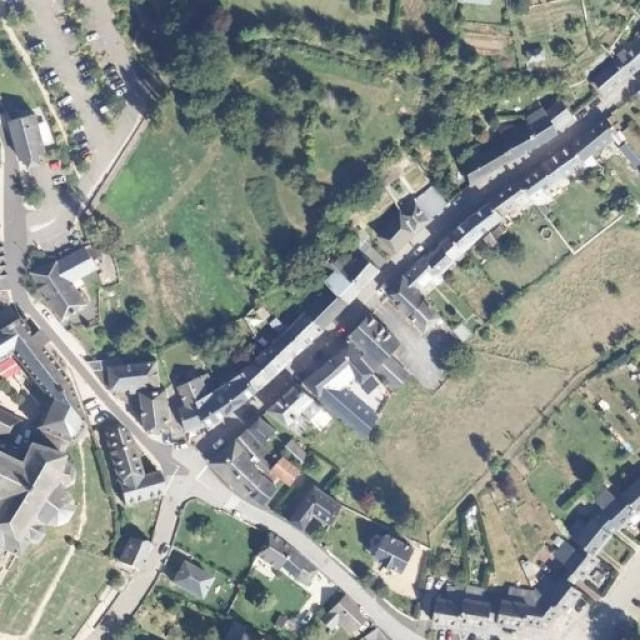immeuble: (235, 256, 364, 386), (497, 115, 627, 226), (0, 434, 81, 575), (0, 310, 89, 438), (554, 489, 638, 616), (418, 570, 566, 640), (410, 199, 495, 296), (208, 419, 302, 501), (20, 242, 109, 328), (310, 356, 405, 436), (464, 101, 556, 181), (96, 354, 185, 430), (96, 417, 168, 508), (173, 364, 246, 430), (13, 104, 64, 159)
maison: (248, 531, 322, 598), (272, 481, 342, 543), (347, 530, 421, 574), (169, 557, 228, 601), (324, 599, 385, 640), (113, 531, 153, 575)
